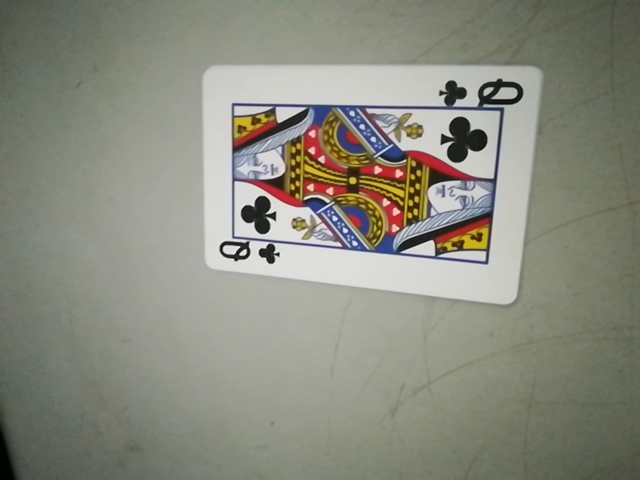mh q: (439, 74, 528, 108), (212, 237, 285, 272)
